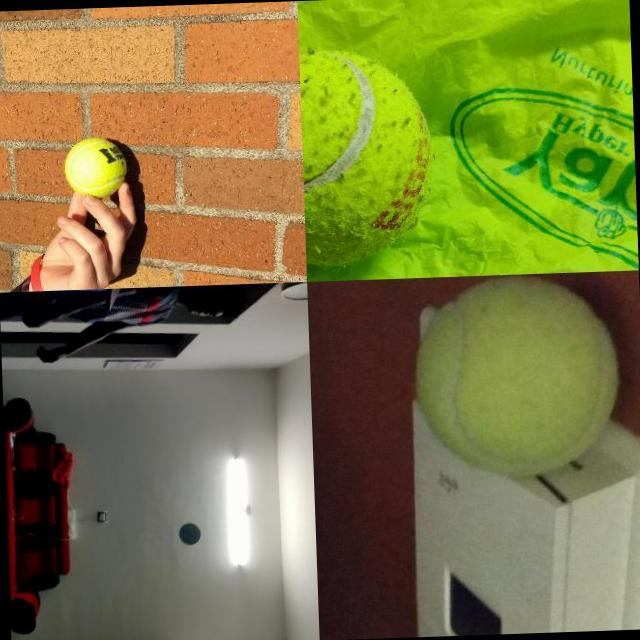Tennis Ball: (408, 270, 626, 480), (300, 45, 438, 268), (62, 137, 128, 200), (178, 522, 201, 545)
